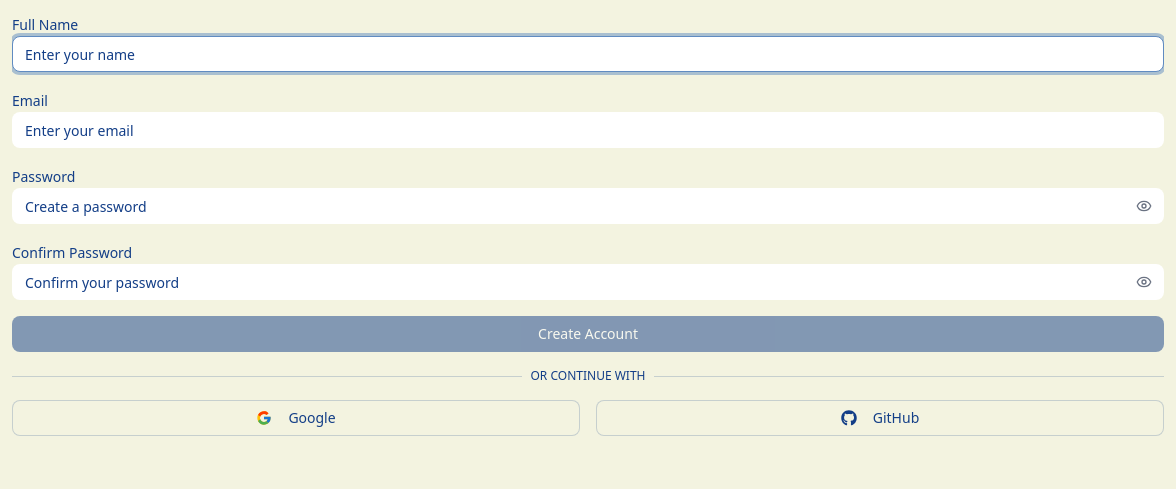
SignupForm Component › form submit catches error and displays error message
Type "John Doe" into the field with placeholder "Enter your name" at x=588, y=54, box [12,36,1164,72]
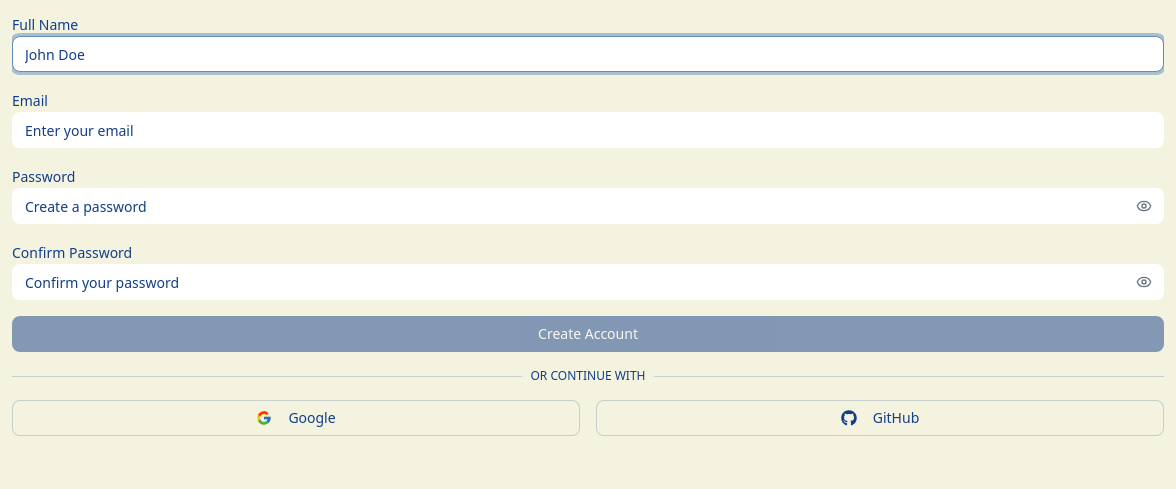
Type "test@example.com" into the field with placeholder "Enter your email" at x=588, y=130, box [12,112,1164,148]
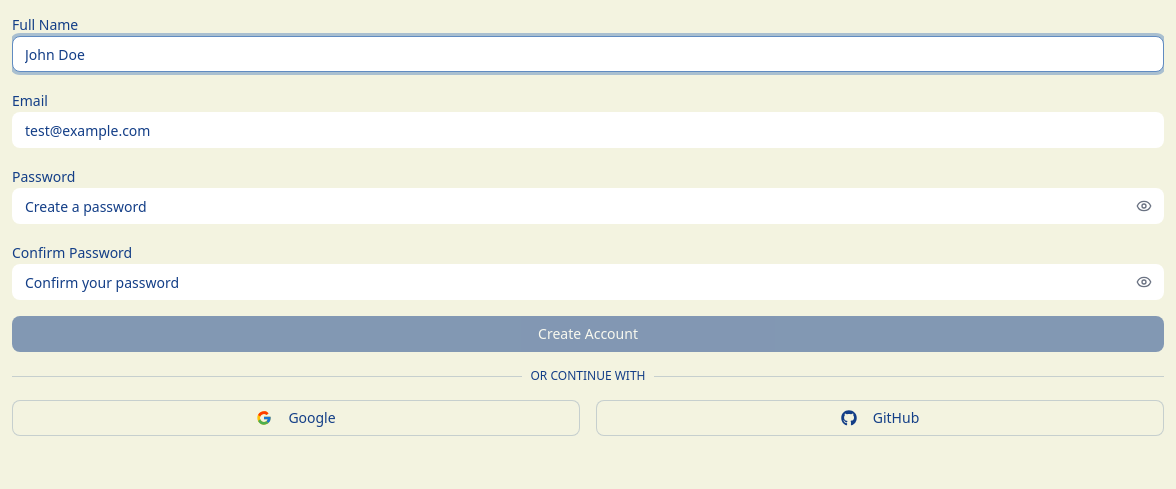
Type "password123" into the password field with placeholder "Create a password" at x=588, y=206, box [12,188,1164,224]
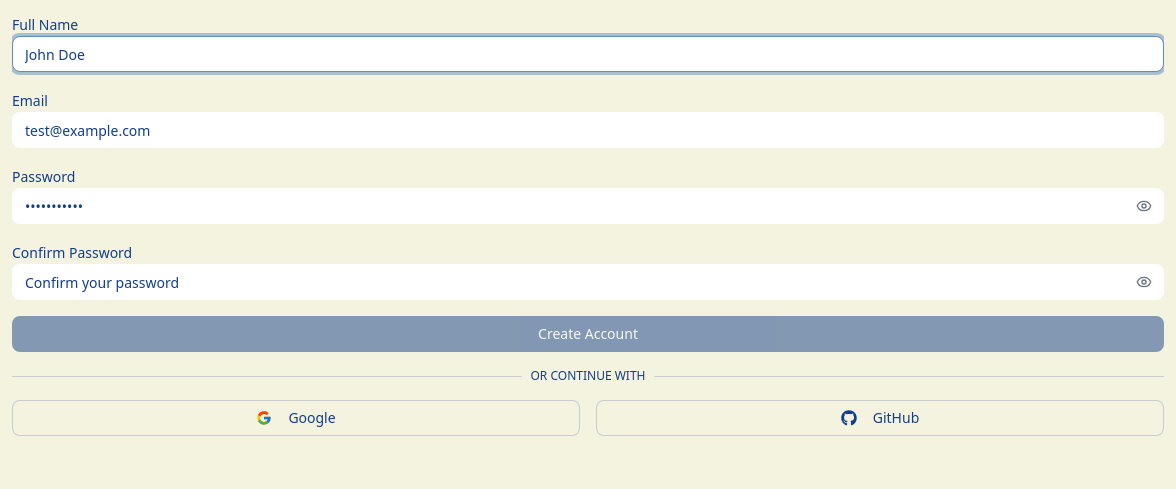
Type "password123" into the password field with placeholder "Confirm your password" at x=588, y=282, box [12,264,1164,300]
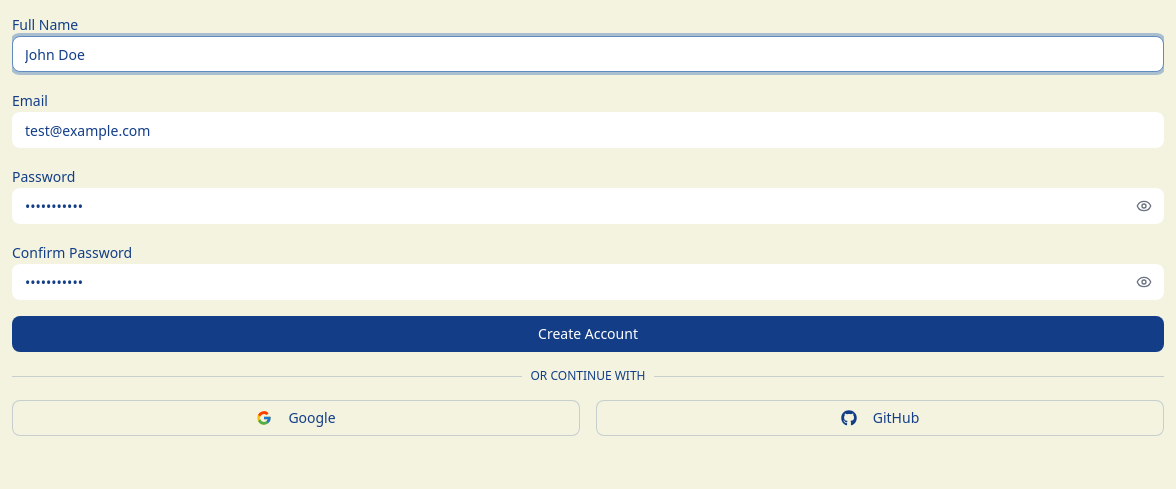
Click the button "Create Account" at x=588, y=334, box [12,316,1164,352]
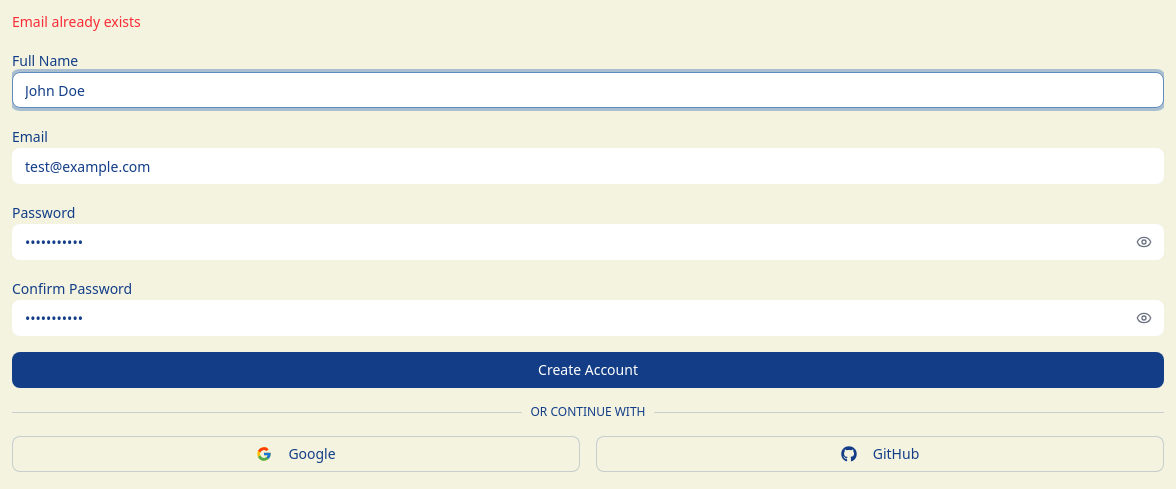
expect the text "Email already exists" is shown: met, box [12,12,141,31]
